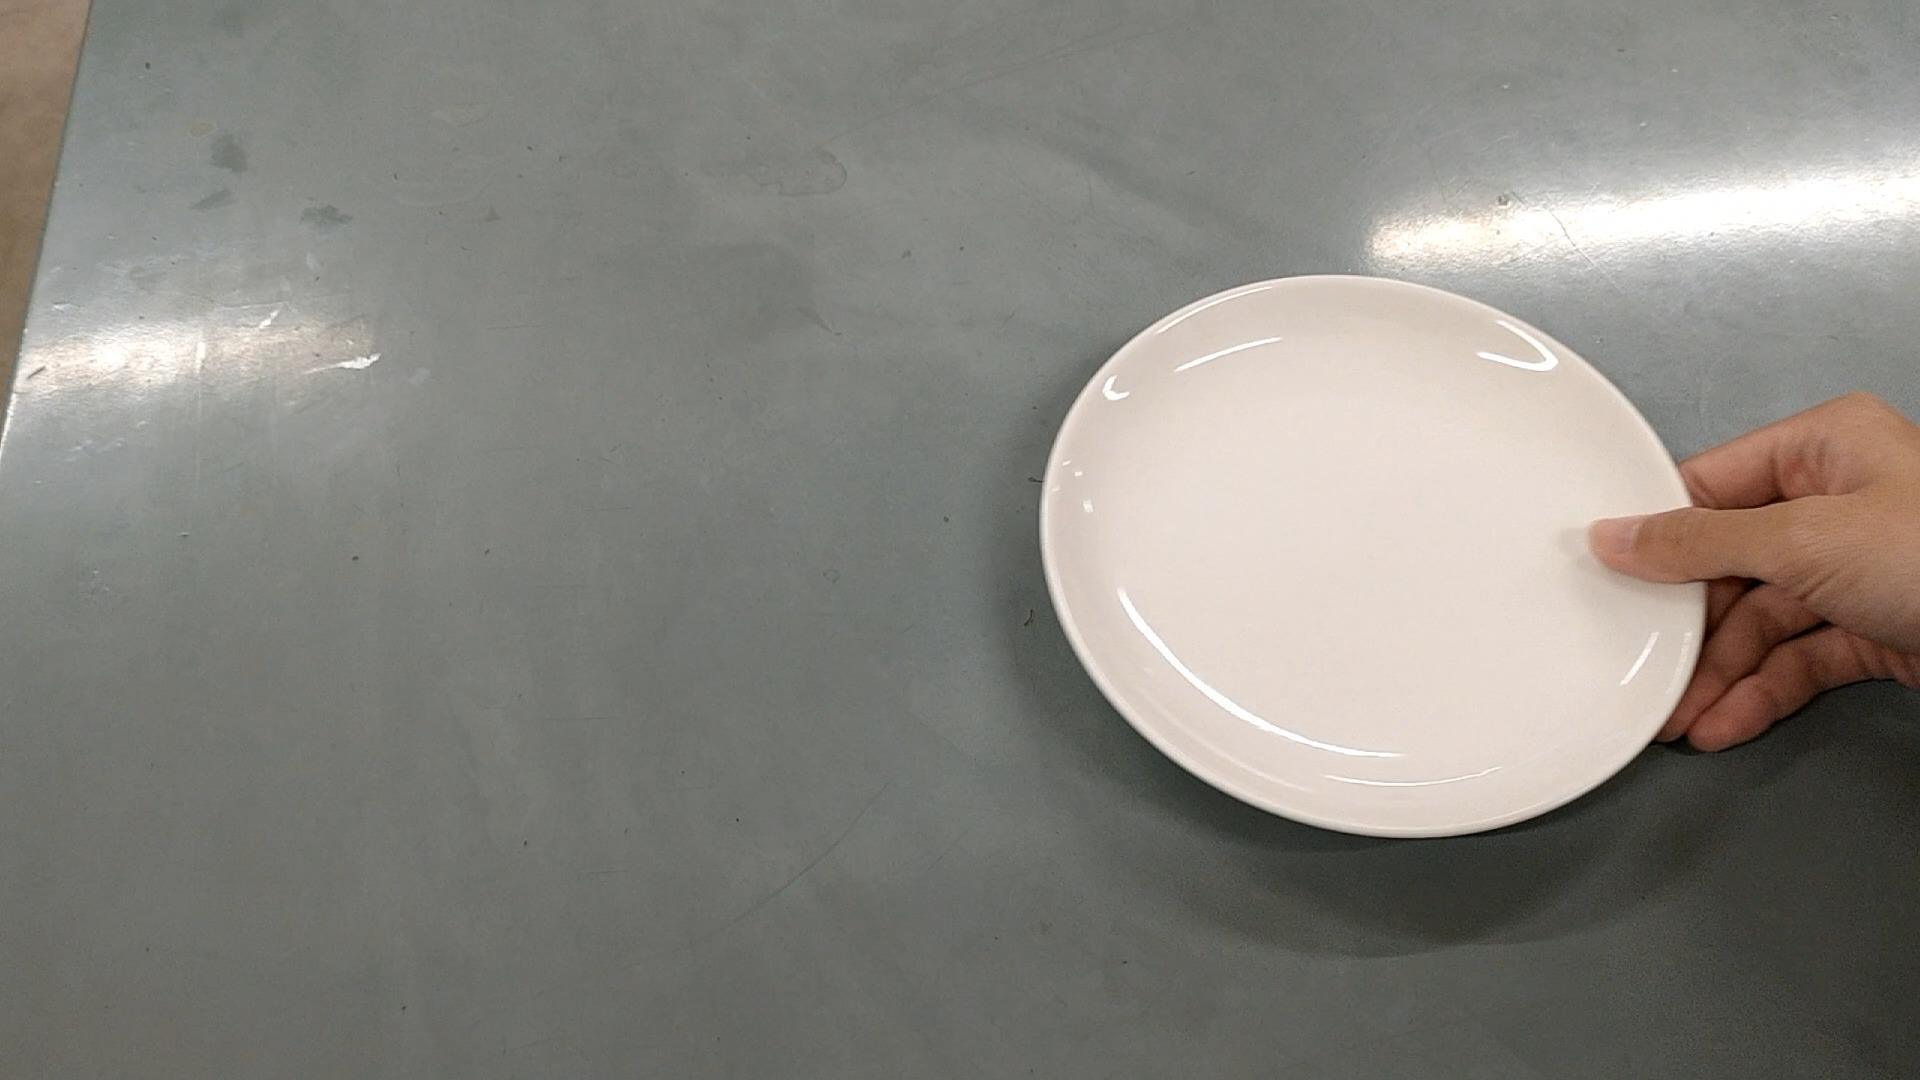plate: (1046, 276, 1709, 840)
